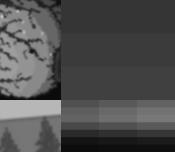eyeC: (0, 0, 61, 100)
knife: (61, 0, 175, 100)
slime: (61, 100, 175, 137)
